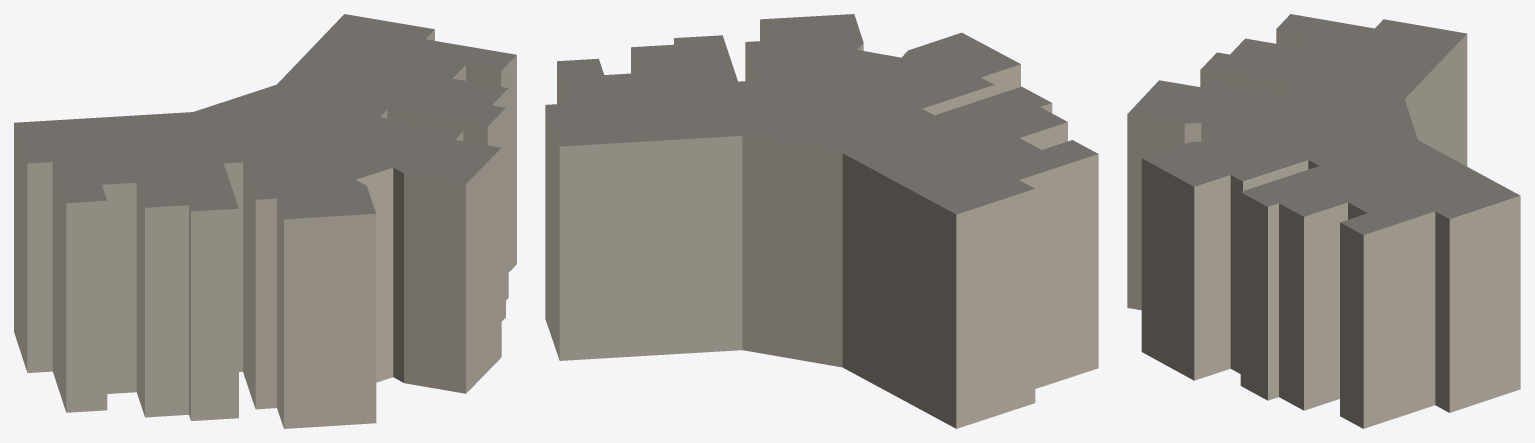
3 views of the same model, side by side, from view 1: azimuth 30°, elevation 25°; view 2: azimuth 150°, elevation 25°; view 3: azimuth 270°, elevation 25° (orthographic). The views are drawn at different scales.
Parts seen in each view (by area): view 1: HP-w1568555038; view 2: HP-w1568555038; view 3: HP-w1568555038.
Part boxes in pixels (box(x1,y1,x2,y2)): HP-w1568555038: box(14, 14, 516, 428); HP-w1568555038: box(545, 14, 1098, 428); HP-w1568555038: box(1127, 14, 1520, 428).
Bounding box in the file's own units: 44.04 × 18 × 33.08.
